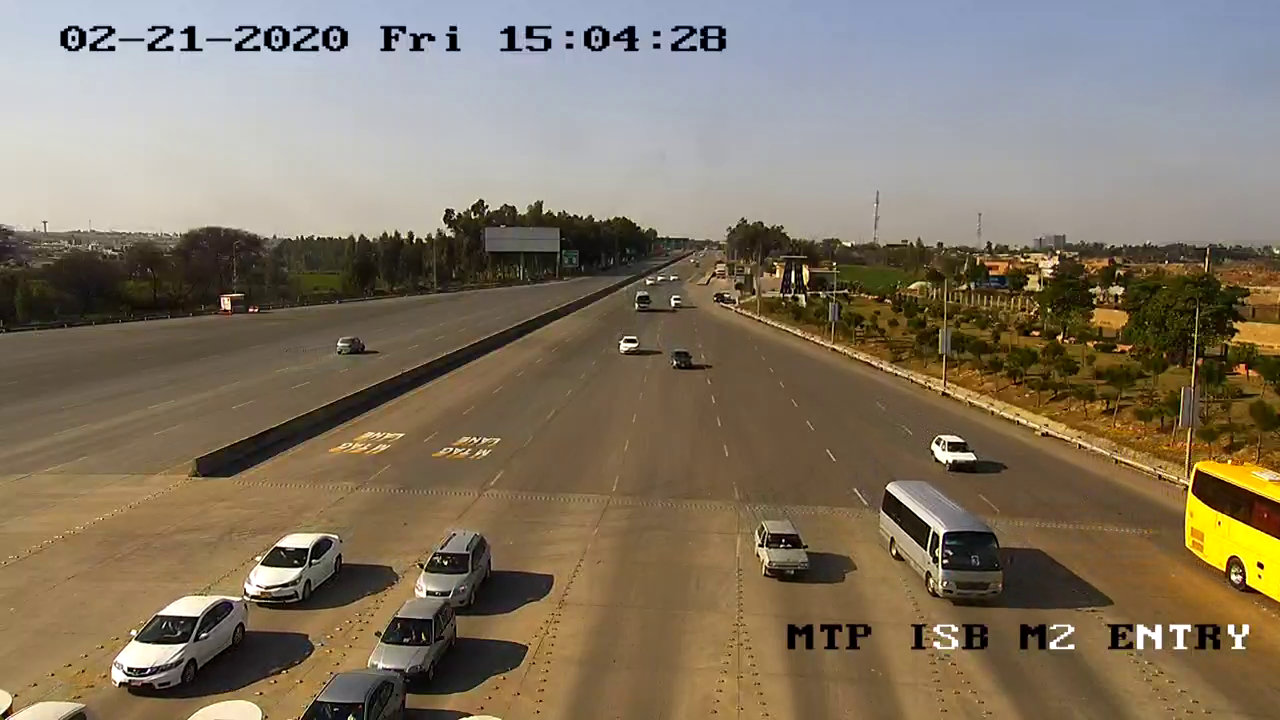f1: (100, 589, 255, 704), (357, 591, 471, 694), (234, 521, 349, 615), (391, 524, 509, 612), (743, 509, 822, 588)
f3: (873, 471, 1010, 618)
